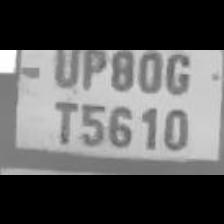0: (159, 100, 191, 150), (134, 49, 164, 93)
1: (134, 102, 160, 150)
5: (76, 97, 104, 147)
6: (104, 100, 134, 148)
8: (104, 49, 134, 91)
G: (162, 50, 192, 94)
P: (76, 49, 108, 91)
T: (45, 93, 76, 145)
U: (48, 50, 80, 88)
